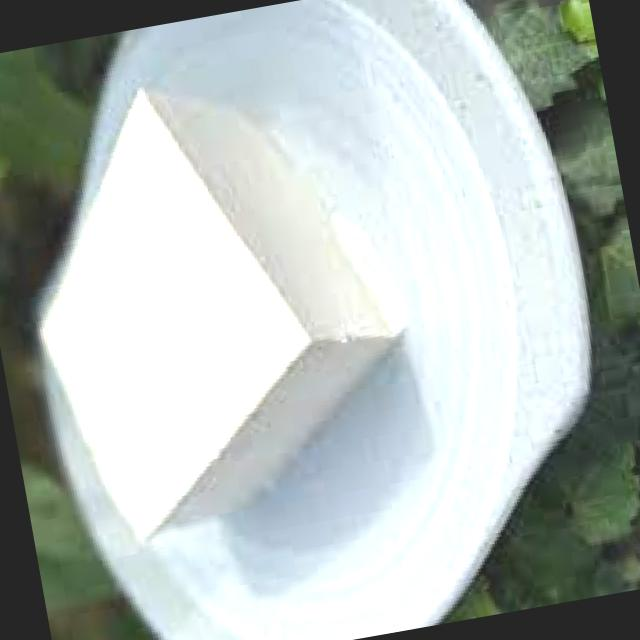tofu: (9, 34, 448, 530)
